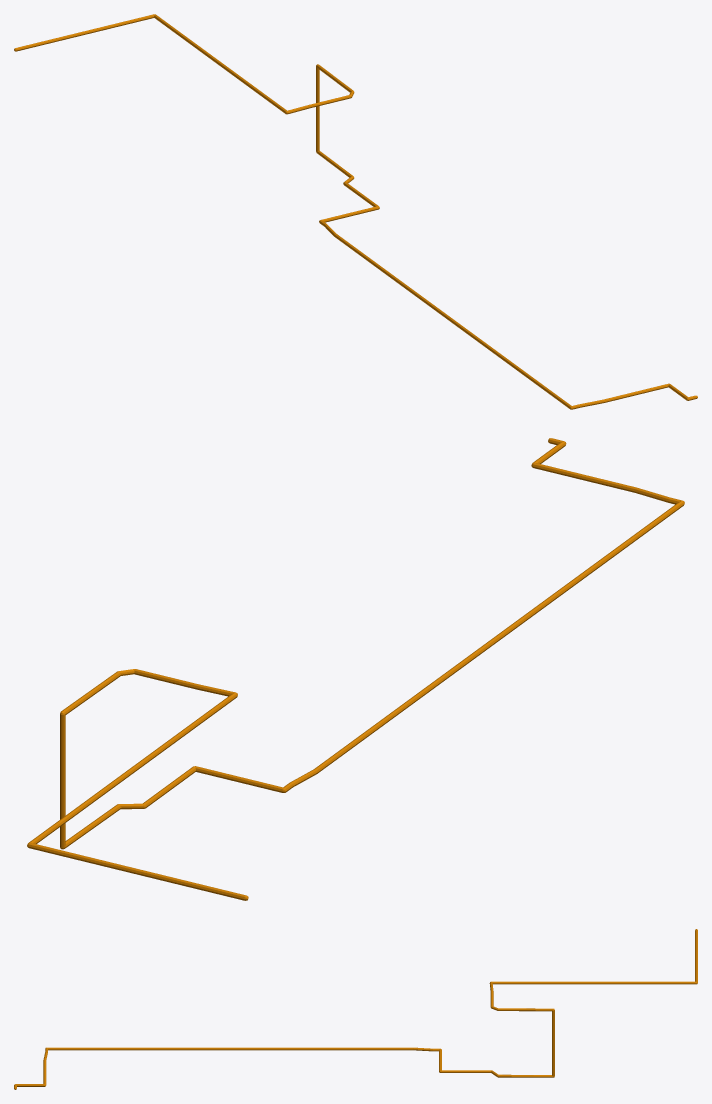
3 renders of one model, top to bottom at view 1: azimuth 30°, elevation 25°; view 2: azimuth 150°, elevation 25°; view 3: azimuth 270°, elevation 25°, orthographic. The views are drawn at different scales.
Bounding box in the file's own units: 1500 × 520 × 4663.
